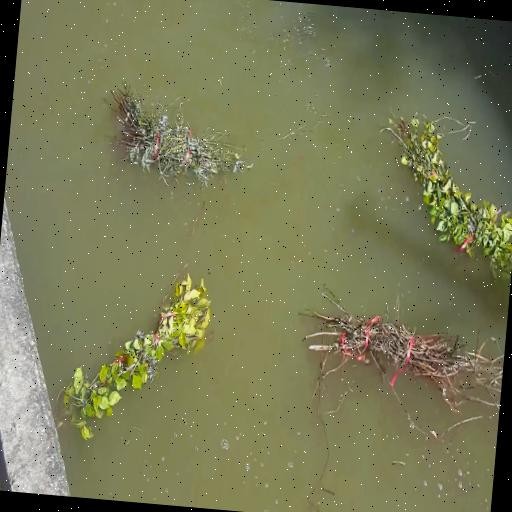twig: (70, 270, 210, 438), (323, 298, 504, 412), (388, 113, 512, 277), (110, 85, 238, 185)
